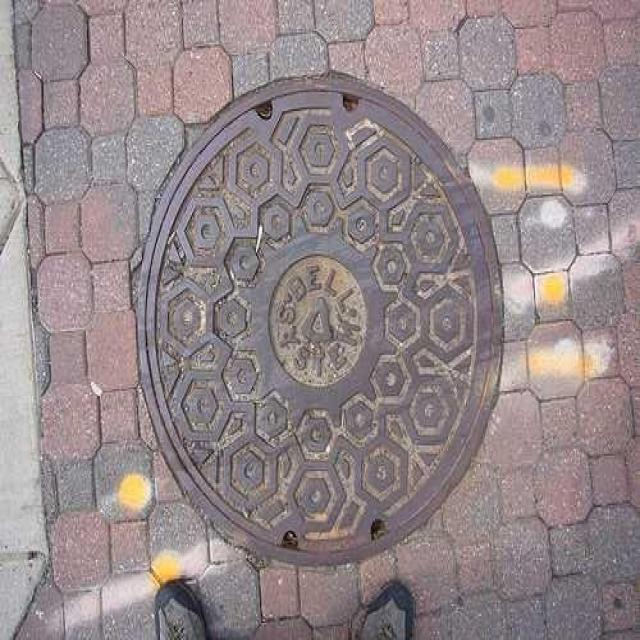manhole: (136, 75, 500, 563)
